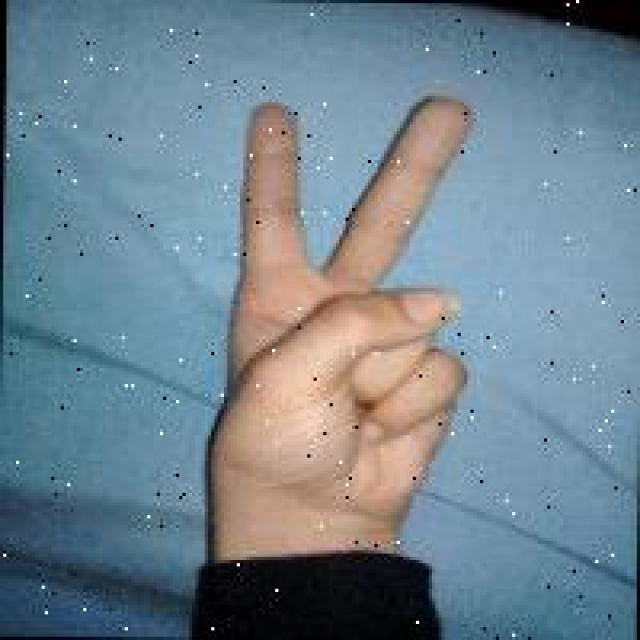V: (197, 84, 488, 518)
